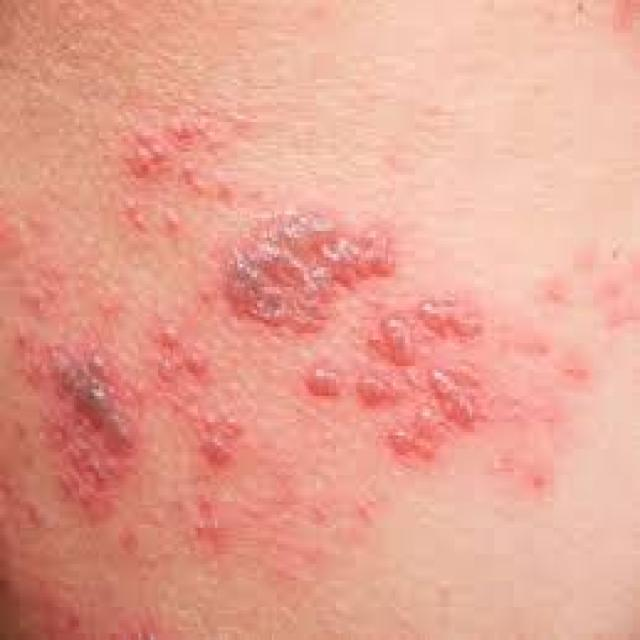Shingles: (0, 108, 485, 530)
